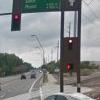Traffic light: (8, 0, 33, 41)
